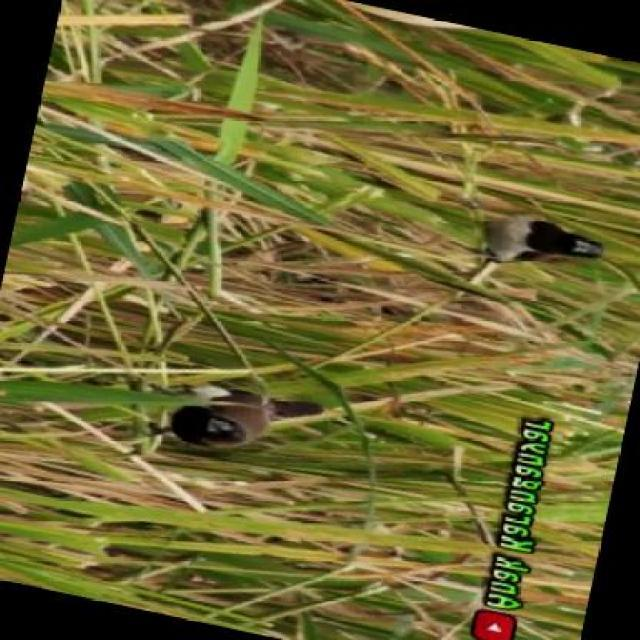Bird: (154, 384, 327, 454), (479, 213, 606, 266)
